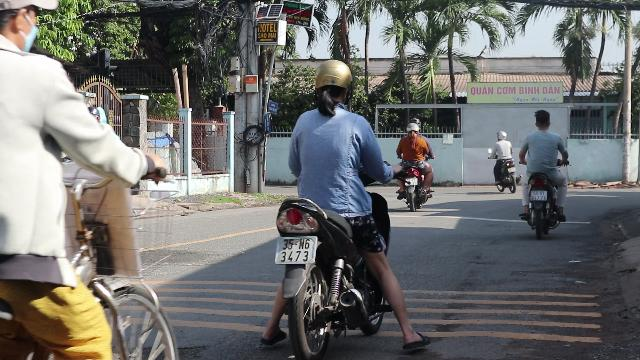helmet: (311, 58, 353, 110)
licenseplate: (275, 238, 315, 262), (531, 190, 547, 200)
motorcyclist: (264, 57, 412, 356), (516, 109, 570, 238)
nohelmet: (534, 109, 552, 130)
